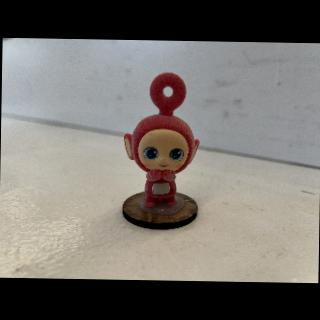teletubby: (124, 72, 199, 207)
